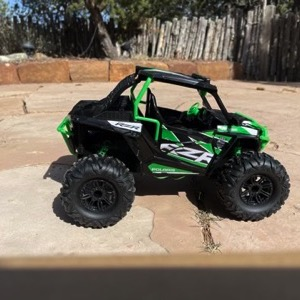polaris: (57, 66, 293, 228)
